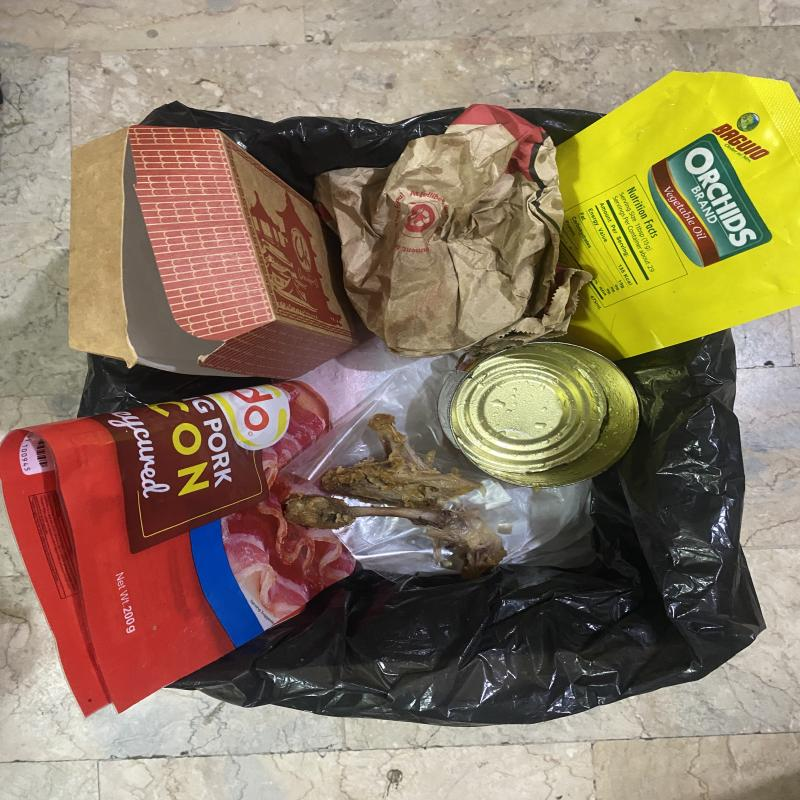aluminum: (438, 342, 639, 488)
cardboard: (68, 126, 358, 380)
food wrapper: (0, 382, 357, 719), (556, 71, 800, 362)
left-over food: (281, 493, 507, 580), (321, 413, 488, 509)
paper: (314, 105, 593, 359)
